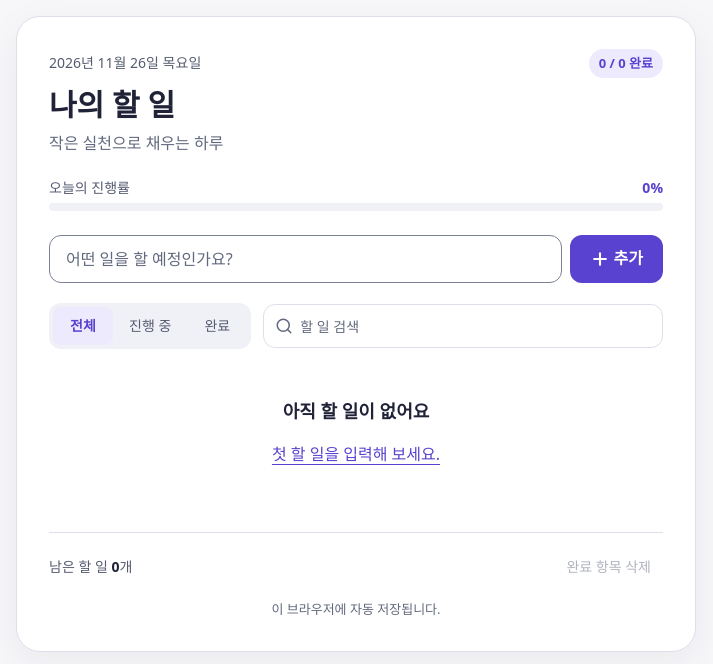
TodoApp 통합 컴포넌트 테스트 › 연속 삭제 시 최신 삭제 1건만 실행 취소 대상이 된다
In the field with placeholder "어떤 일을 할 예정인가요?": (305, 259) 49,235 -> 562,283, type "항목 A"
Then press Enter
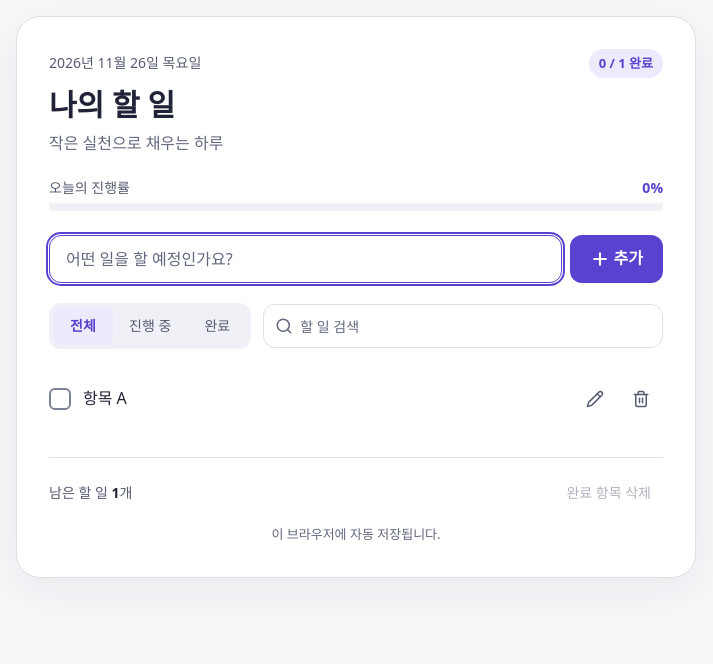
In the field with placeholder "어떤 일을 할 예정인가요?": (305, 259) 49,235 -> 562,283, type "항목 B"
Then press Enter
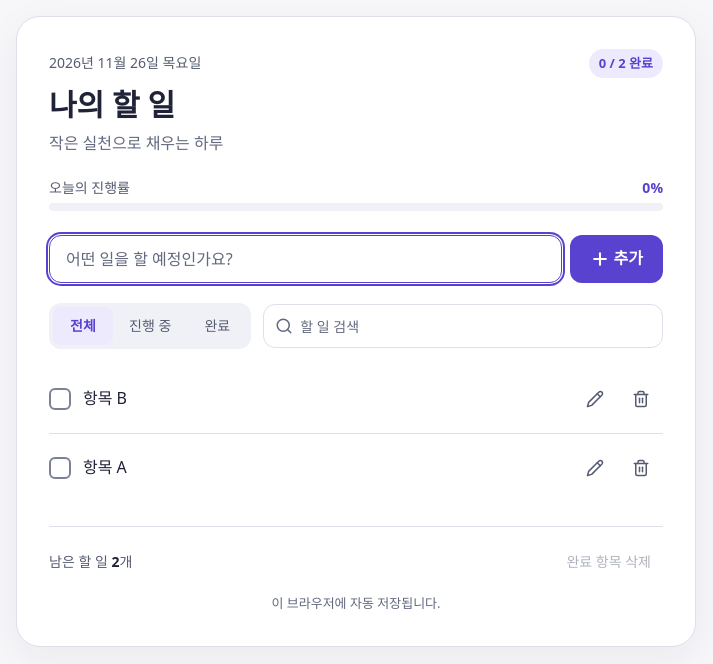
In the field with placeholder "어떤 일을 할 예정인가요?": (305, 259) 49,235 -> 562,283, type "항목 C"
Then press Enter
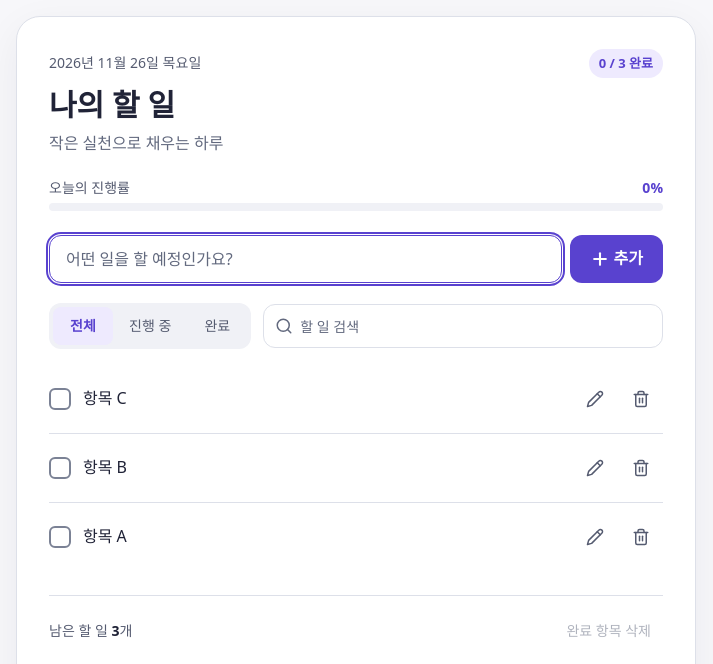
// 항목 C 삭제 후 바로 항목 B 삭제
Click the button named "\"항목 C\" 삭제": click(641, 399) 619,377 -> 663,421
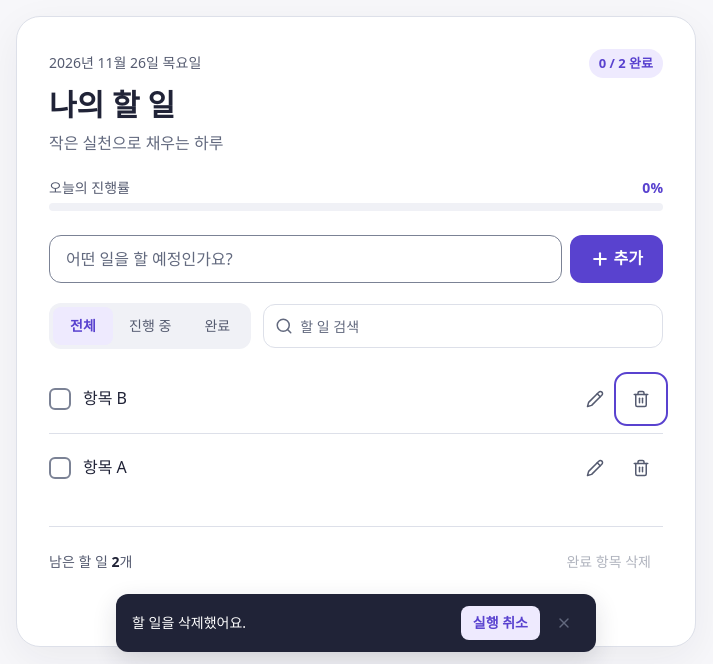
Click the button named "\"항목 B\" 삭제": click(641, 399) 619,377 -> 663,421
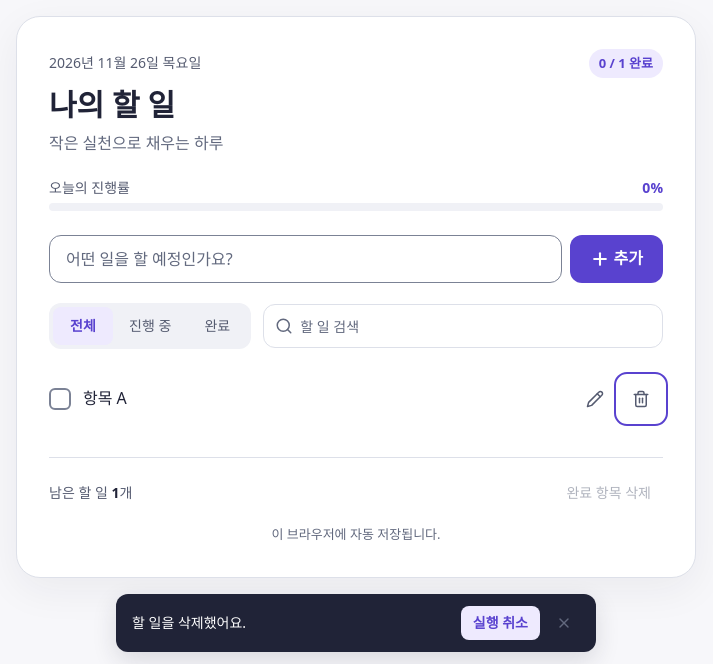
// 실행 취소 클릭
Click the button with aria-label "삭제한 할 일 실행 취소": click(500, 623) 461,606 -> 540,640
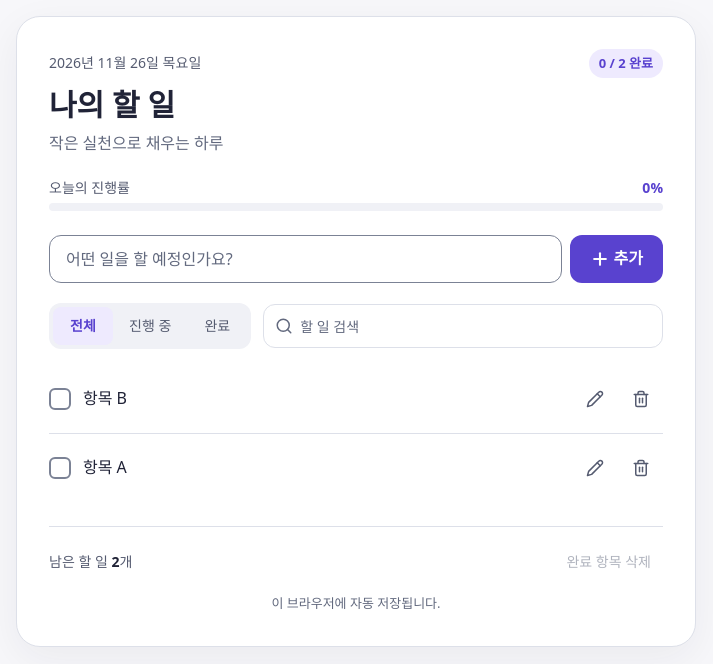
Expected: the text "항목 C" is not shown
Now the text "항목 B" is shown, box 83,388 -> 127,410
